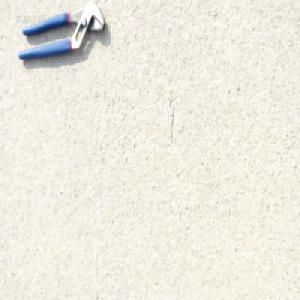Pliers: (17, 2, 107, 61)
